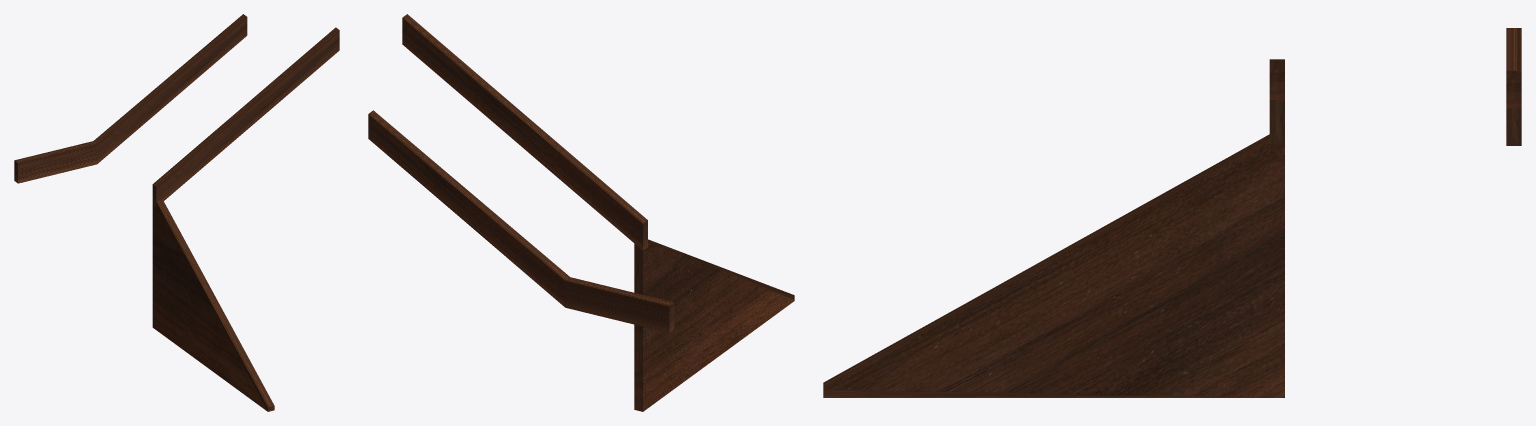
File: StairsWtv.fbx
3 renders of one model, left to right at view 1: azimuth 30°, elevation 25°; view 2: azimuth 150°, elevation 25°; view 3: azimuth 270°, elevation 25°, orthographic. The views are drawn at different scales.
Visible parts, largest first — view 1: Cube.005; view 2: Cube.005; view 3: Cube.005.
Boxes of the visible parts, x1,y1,x2,y2 form: Cube.005: [14, 14, 339, 411]; Cube.005: [368, 14, 794, 411]; Cube.005: [823, 28, 1521, 397].
Size of the model in its own units: 761 by 708 by 877.
